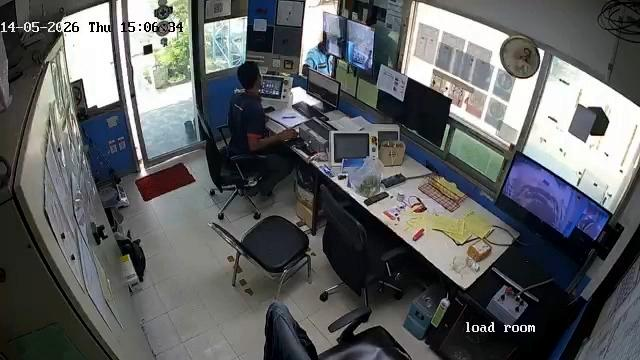Head: (236, 60, 263, 87)
People: (225, 59, 296, 206)
Phone: (261, 106, 276, 114)
